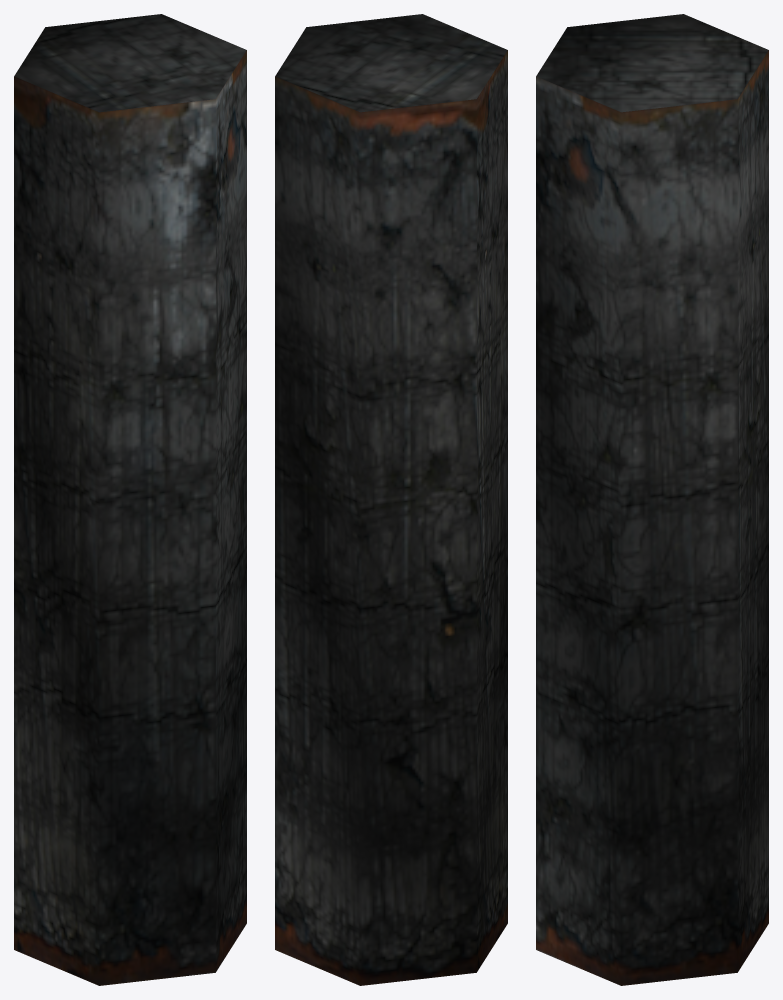
3 views of the same model, side by side, from view 1: azimuth 30°, elevation 25°; view 2: azimuth 150°, elevation 25°; view 3: azimuth 270°, elevation 25° (orthographic).
Parts seen in each view (by area): view 1: roller; view 2: roller; view 3: roller.
Part boxes in pixels (x1,y1,x2,y2): roller: (14, 14, 246, 985); roller: (275, 14, 507, 985); roller: (536, 14, 768, 985).
Bounding box in the file's own units: 0.9659 × 4 × 0.9659.
Materials: 1 (1 with a texture image).
